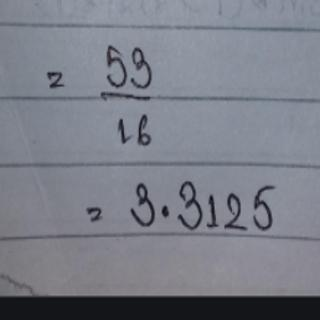.: (157, 201, 174, 220)
1: (205, 189, 221, 234), (116, 114, 130, 149)
2: (224, 190, 250, 237)
3: (126, 44, 157, 93), (177, 179, 204, 233), (126, 182, 155, 230)
5: (252, 182, 276, 230), (105, 48, 129, 91)
6: (136, 112, 154, 151)
